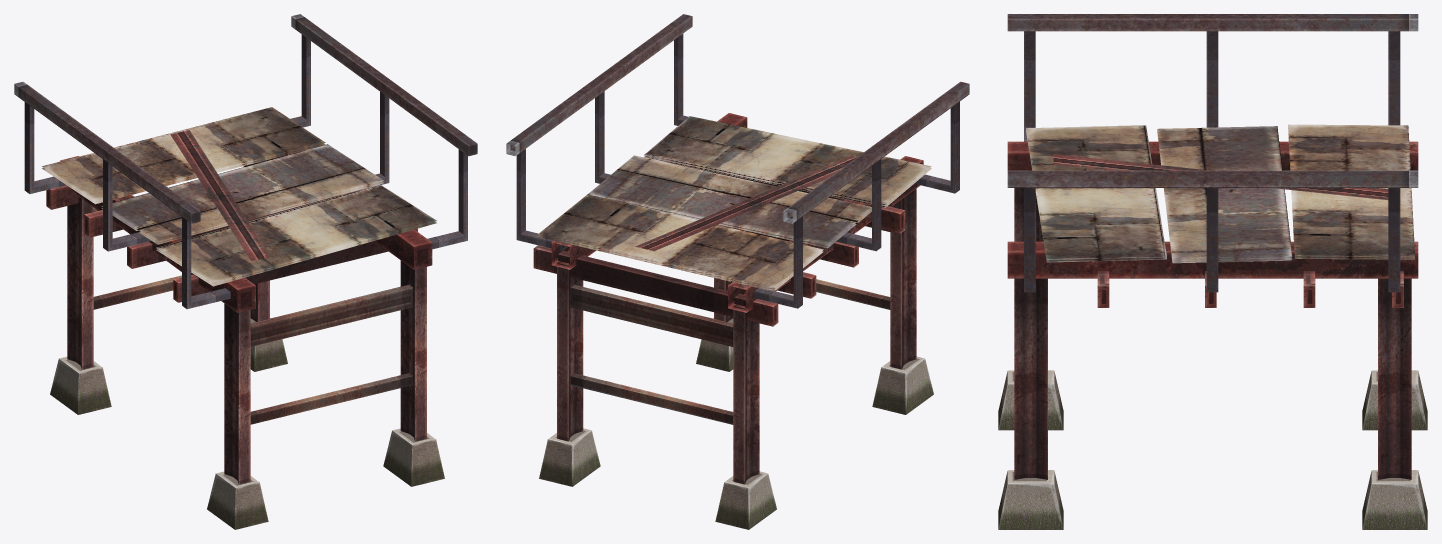
The model's file is metal_bridge_end_02.fbx.
3 renders of one model, left to right at view 1: azimuth 30°, elevation 25°; view 2: azimuth 150°, elevation 25°; view 3: azimuth 270°, elevation 25°, orthographic. The views are drawn at different scales.
Visible parts, largest first — view 1: metal_bridge_end_02; view 2: metal_bridge_end_02; view 3: metal_bridge_end_02.
Boxes of the visible parts, x1=… form: metal_bridge_end_02: x1=14, y1=14, x2=477, y2=529; metal_bridge_end_02: x1=506, y1=14, x2=969, y2=529; metal_bridge_end_02: x1=998, y1=14, x2=1427, y2=529.
Bounding box in the file's own units: 2.99 × 3.23 × 3.35.
